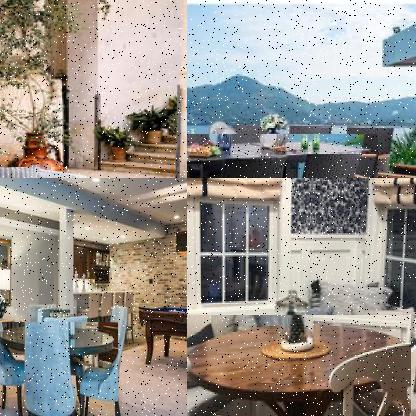table: (187, 315, 411, 415), (0, 322, 119, 415), (187, 134, 378, 177)
